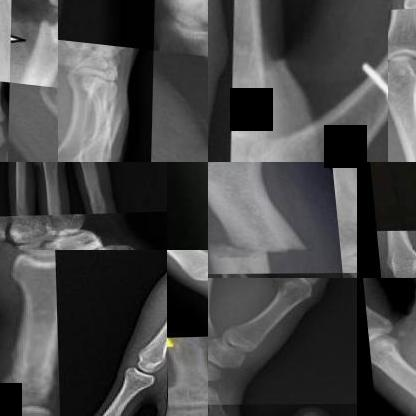fracture: (208, 218, 311, 274), (349, 0, 388, 131), (325, 162, 357, 240), (22, 7, 57, 67), (96, 86, 131, 129)
